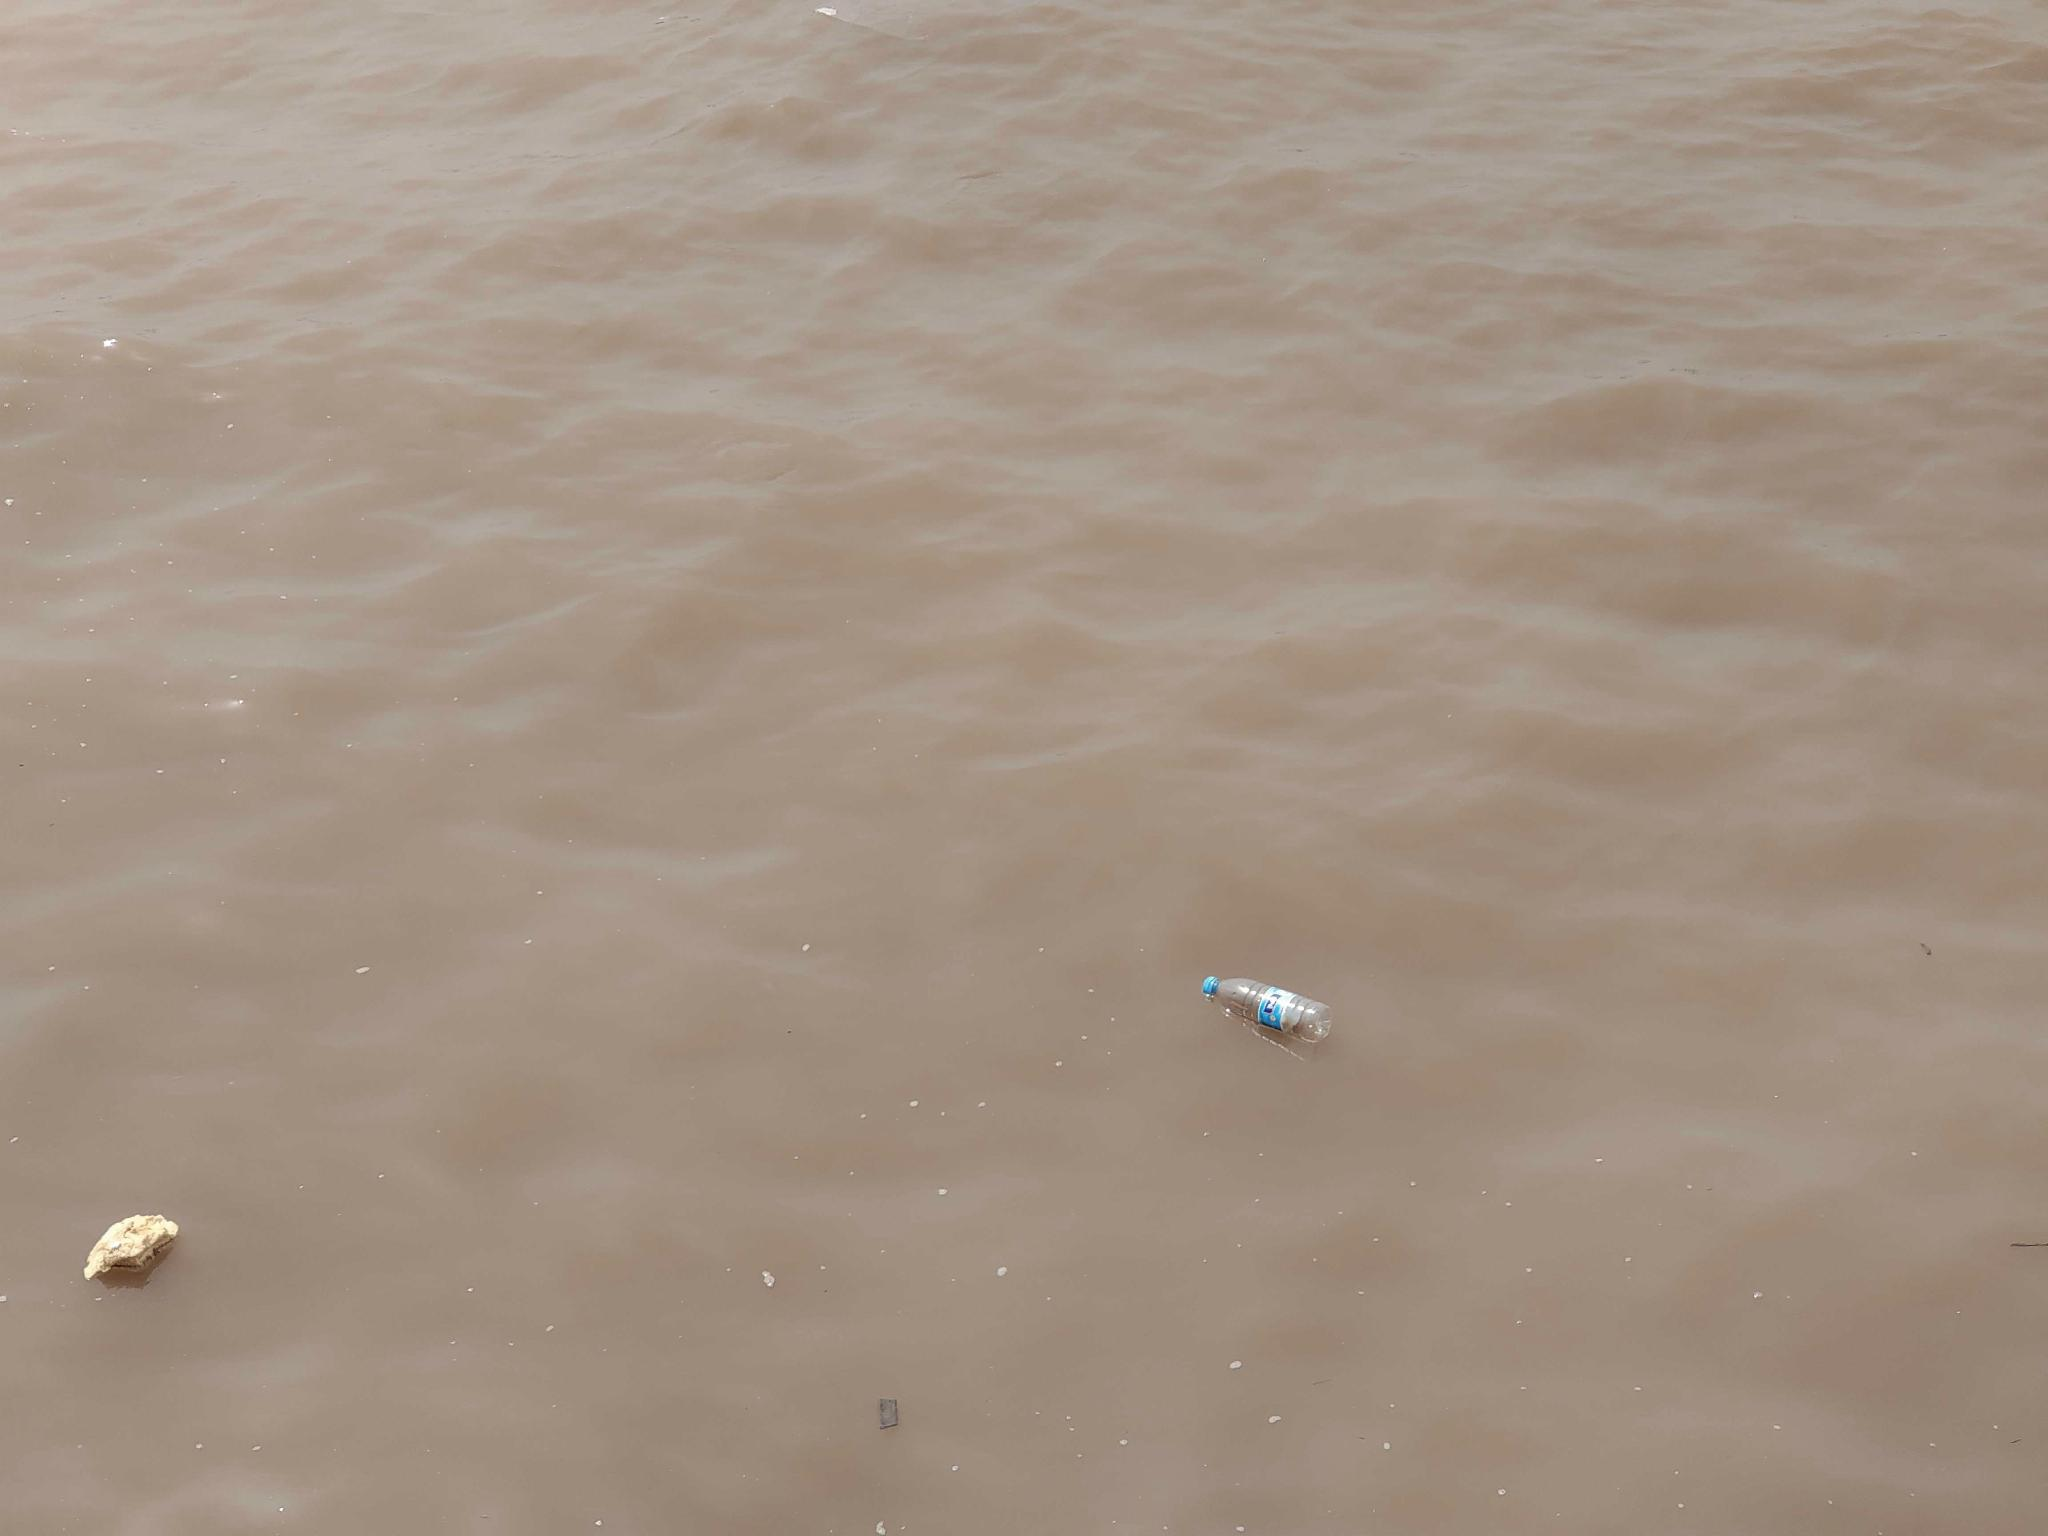Plastic: (1197, 965, 1332, 1052)
